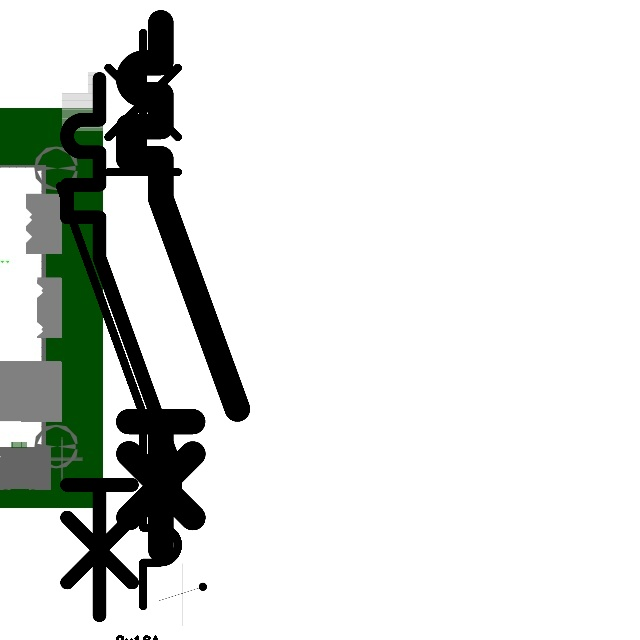interruptor_termomagnetico: (45, 18, 193, 621), (53, 65, 191, 628), (115, 9, 250, 563)
